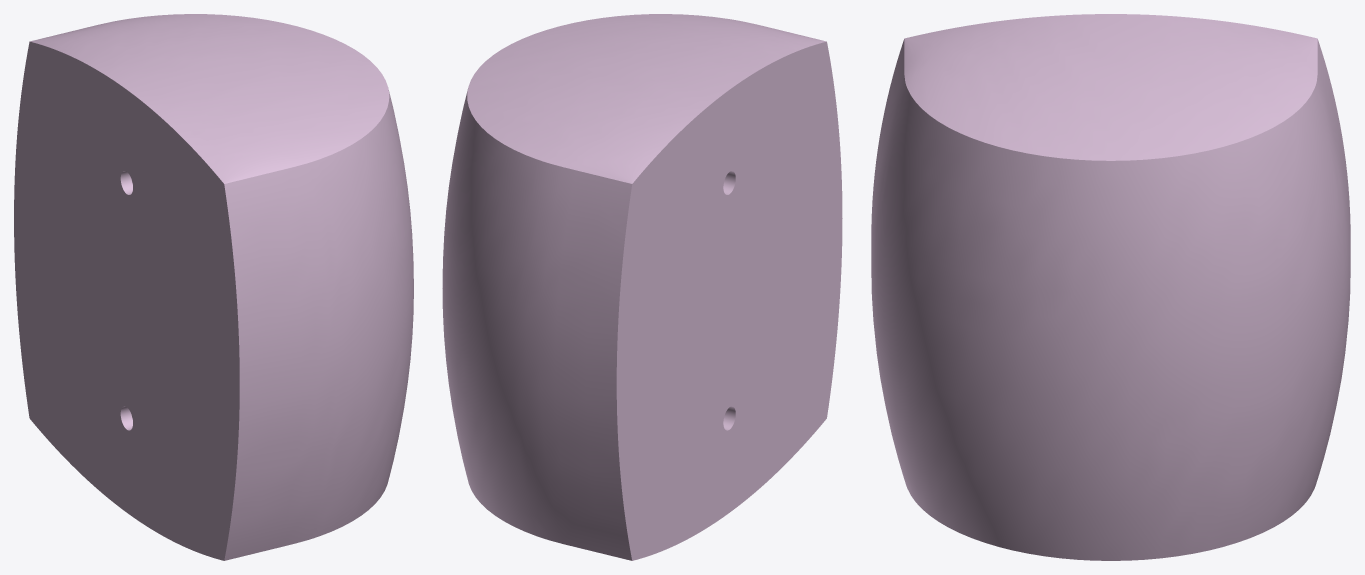
The model's file is OUTFITTING_INTERIOR__EXT. INSTRUMENTS__FWD MAST__HV2__INSTRUMENTS__Steaming light__Steaming light surfs.glb.
3 views of the same model, side by side, from view 1: azimuth 30°, elevation 25°; view 2: azimuth 150°, elevation 25°; view 3: azimuth 270°, elevation 25° (orthographic). The views are drawn at different scales.
Visible parts, largest first — view 1: Steaming light surfs; view 2: Steaming light surfs; view 3: Steaming light surfs.
Boxes of the visible parts, x1=… form: Steaming light surfs: x1=14, y1=14, x2=413, y2=560; Steaming light surfs: x1=442, y1=14, x2=842, y2=560; Steaming light surfs: x1=871, y1=14, x2=1350, y2=560.
Size of the model in its own units: 0.0572 by 0.0899 by 0.087.
